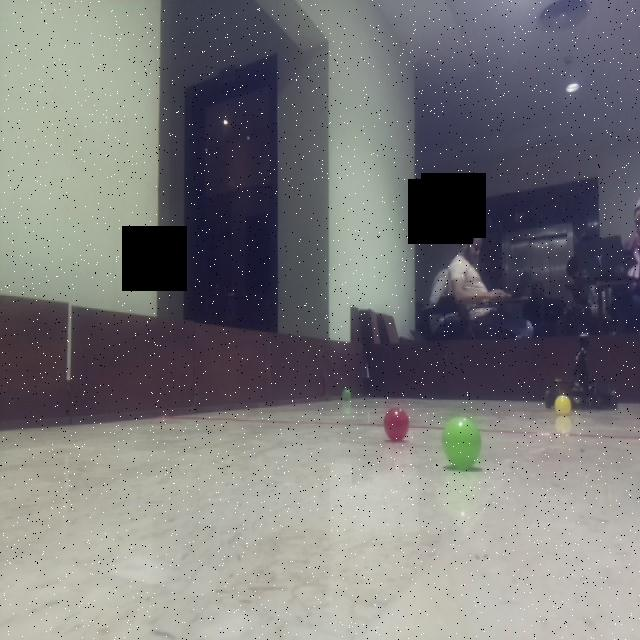ball: (441, 410, 483, 470), (381, 401, 413, 444), (553, 393, 575, 419), (339, 384, 354, 403)
